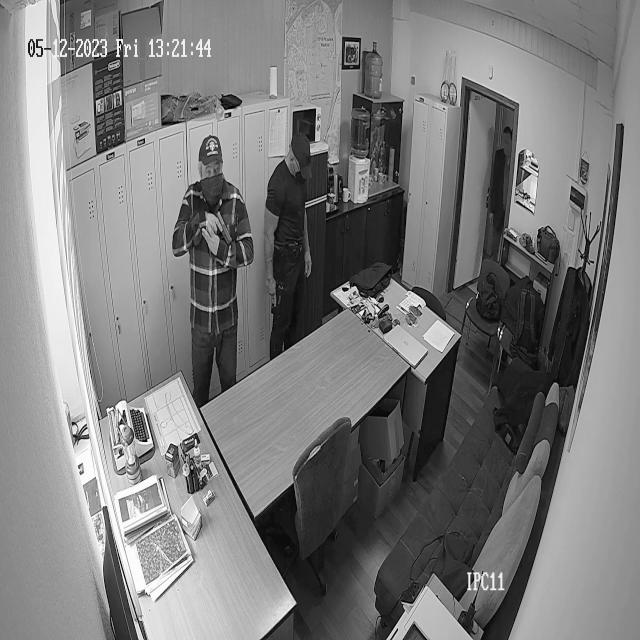gun: (210, 193, 234, 253), (266, 266, 288, 326)
person: (496, 130, 516, 158)
person with a gun: (174, 124, 258, 402), (262, 126, 314, 356)
